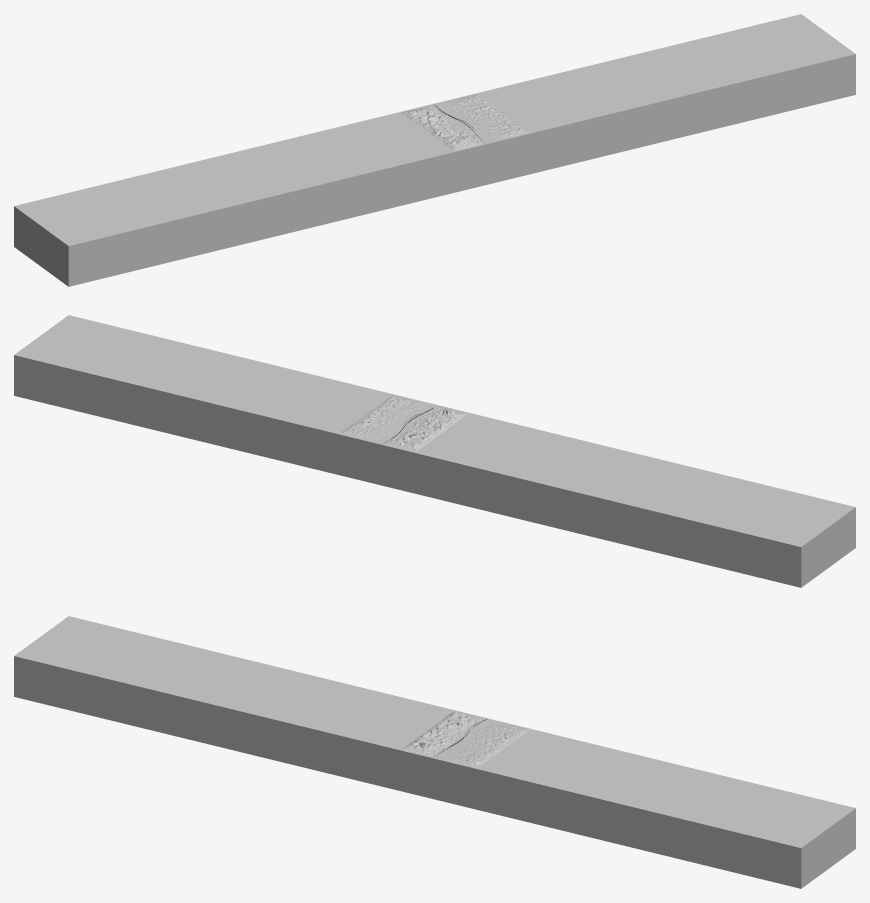
File: desert_5.FBX
3 renders of one model, top to bottom at view 1: azimuth 30°, elevation 25°; view 2: azimuth 150°, elevation 25°; view 3: azimuth 330°, elevation 25°, orthographic.
Visible parts, largest first — view 1: land_desert; view 2: land_desert; view 3: land_desert.
Part boxes in pixels (x1,y1,x2,y2): land_desert: [14, 14, 855, 286]; land_desert: [14, 315, 855, 587]; land_desert: [14, 616, 855, 888].
Size of what is drawn, in the model's own units: 19938 by 2400 by 1096.
